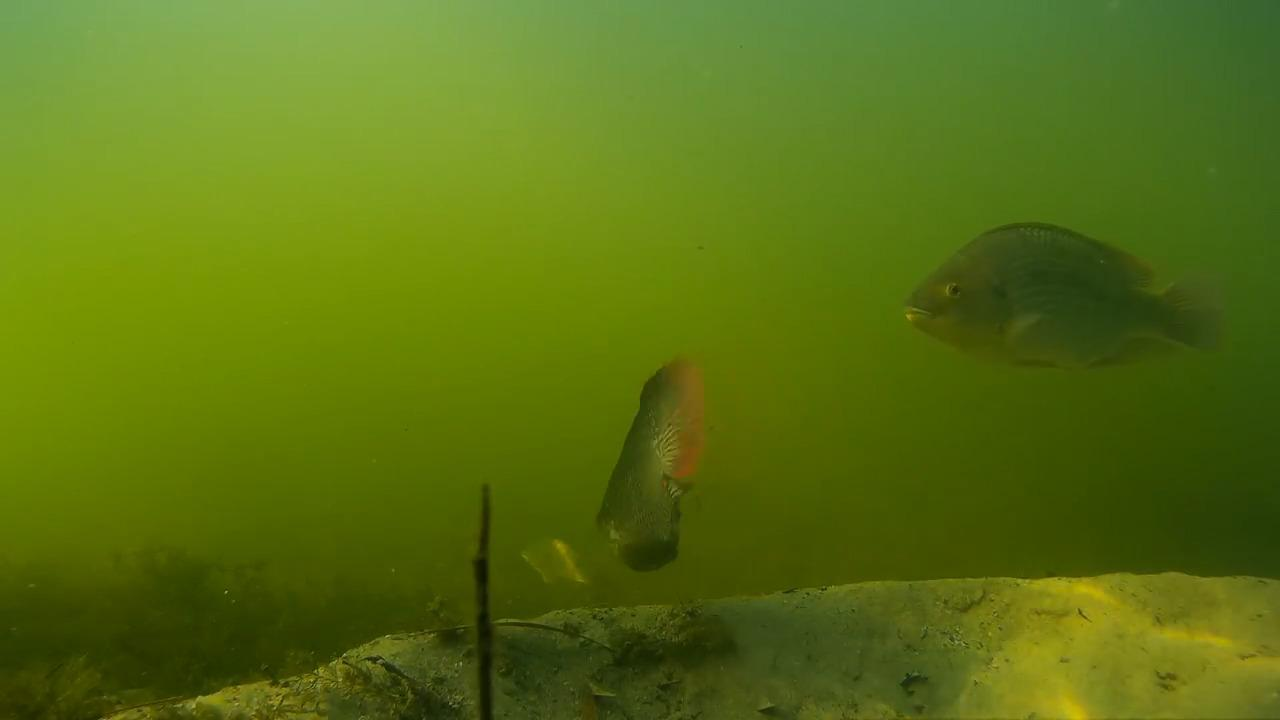Tilapia: (899, 202, 1230, 400), (585, 356, 728, 570), (509, 532, 600, 598)
